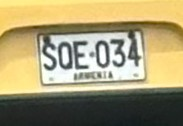number plate: (0, 23, 182, 94), (39, 30, 144, 83)
